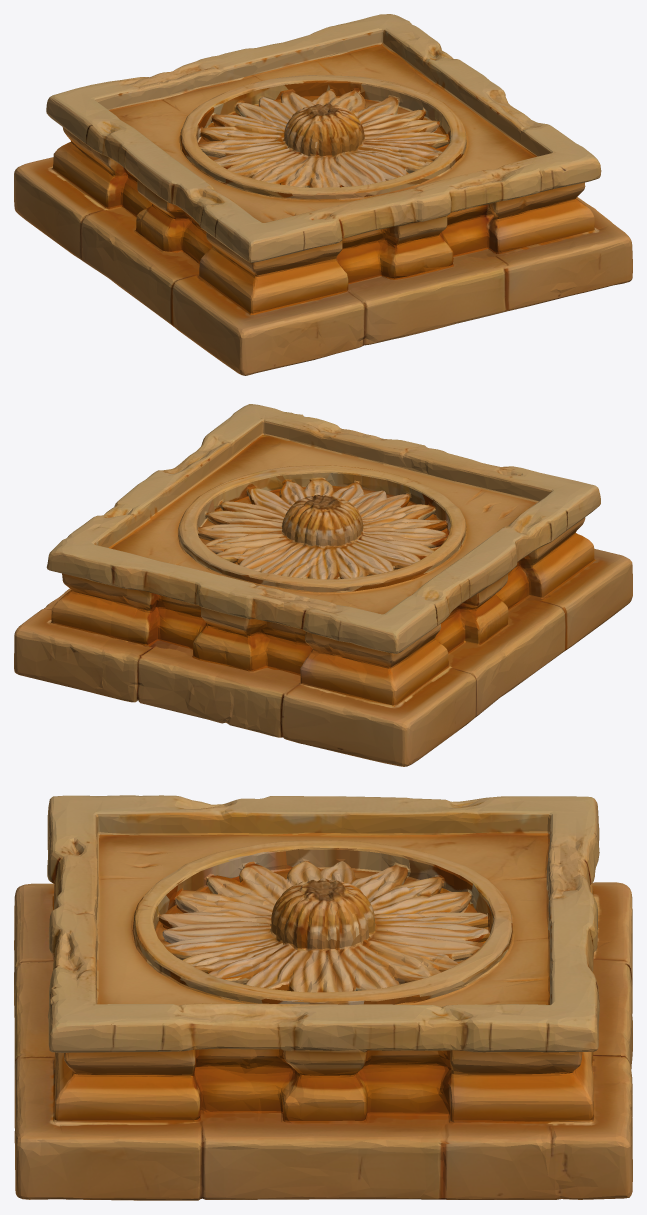
The model's file is lotus-medallion-ceiling-slab-optimized.glb.
3 renders of one model, top to bottom at view 1: azimuth 30°, elevation 25°; view 2: azimuth 150°, elevation 25°; view 3: azimuth 270°, elevation 25°, orthographic. The views are drawn at different scales.
Visible parts, largest first — view 1: fd32f6a0-f8e4-4c18-80c3-040dc7d9adde_texturing.obj; view 2: fd32f6a0-f8e4-4c18-80c3-040dc7d9adde_texturing.obj; view 3: fd32f6a0-f8e4-4c18-80c3-040dc7d9adde_texturing.obj.
Boxes of the visible parts, x1,y1,x2,y2 form: fd32f6a0-f8e4-4c18-80c3-040dc7d9adde_texturing.obj: [14, 14, 632, 375]; fd32f6a0-f8e4-4c18-80c3-040dc7d9adde_texturing.obj: [14, 404, 632, 766]; fd32f6a0-f8e4-4c18-80c3-040dc7d9adde_texturing.obj: [14, 795, 632, 1200].
Size of the model in its own units: 2.99 by 0.9943 by 3.
Materials: 1 (1 with a texture image).
